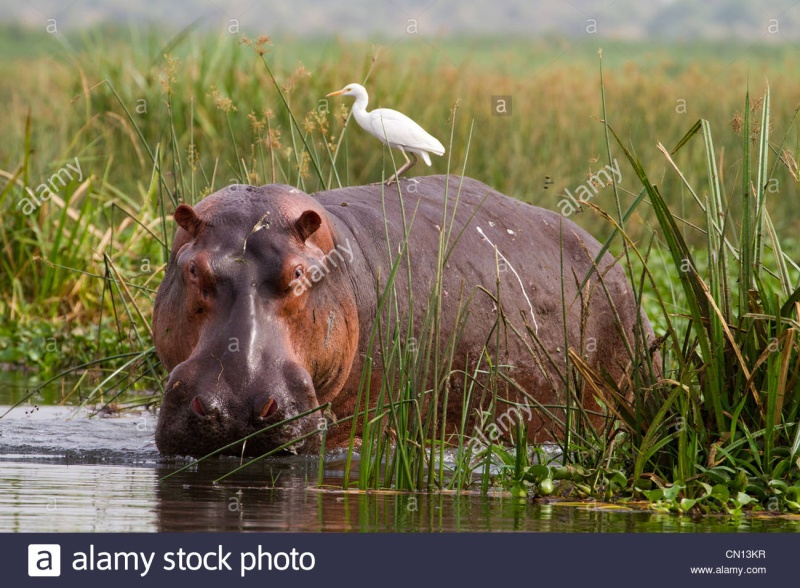hipopotamo: (147, 167, 676, 470)
